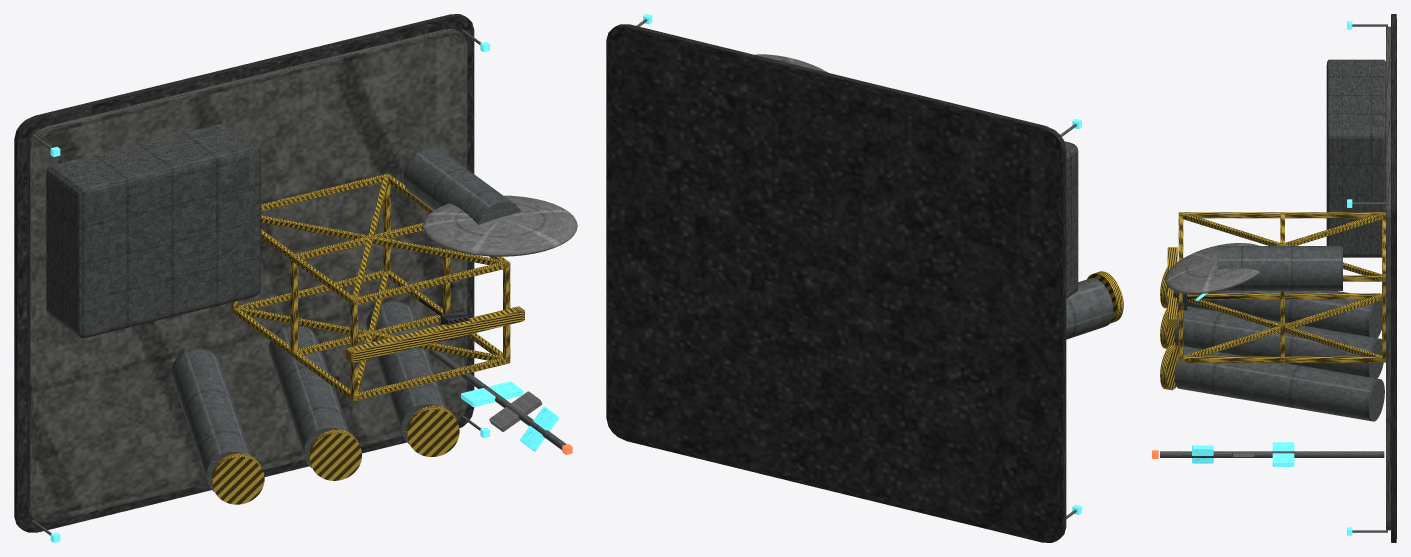
Rendered from b-38-orbital-defense-lod0.glb.
The picture shows the model from 3 angles, left to right: view 1: azimuth 30°, elevation 25°; view 2: azimuth 150°, elevation 25°; view 3: azimuth 270°, elevation 25°; orthographic projection. The views are drawn at different scales.
Parts seen in each view (by area): view 1: foundation_inner_pad, bunker_main, foundation, orbital_tracking_dish_dish, missile_01_tube, missile_02_tube, radar_pedestal, missile_03_tube, reload_crane_bridge, missile_02_cap, missile_01_cap, missile_03_cap (+18 smaller); view 2: foundation, missile_01_tube, bunker_main, missile_01_cap; view 3: bunker_main, missile_03_tube, missile_02_tube, radar_pedestal, missile_01_tube, foundation, orbital_tracking_dish_dish, foundation_inner_pad, reload_crane_column_e_s, reload_crane_brace_a_-1.5, reload_crane_brace_b_-1.5, optical_tracker_main (+12 smaller).
Part boxes in pixels (x1,y1,x2,y2): foundation_inner_pad: (27, 29, 467, 522); bunker_main: (46, 124, 260, 337); foundation: (14, 14, 474, 532); orbital_tracking_dish_dish: (423, 195, 577, 256); missile_01_tube: (171, 348, 251, 491); missile_02_tube: (268, 325, 349, 467); radar_pedestal: (403, 147, 521, 224); missile_03_tube: (366, 301, 446, 444); reload_crane_bridge: (346, 306, 524, 362); missile_02_cap: (308, 429, 361, 480); missile_01_cap: (211, 453, 264, 504); missile_03_cap: (406, 405, 459, 456); foundation: (606, 24, 1066, 542); missile_01_tube: (1066, 278, 1113, 339); bunker_main: (1064, 141, 1078, 298); missile_01_cap: (1087, 271, 1123, 323); bunker_main: (1326, 59, 1385, 257); missile_03_tube: (1174, 346, 1384, 421); missile_02_tube: (1174, 306, 1383, 378); radar_pedestal: (1217, 246, 1342, 290); missile_01_tube: (1187, 291, 1381, 338); foundation: (1391, 14, 1396, 542); orbital_tracking_dish_dish: (1165, 243, 1259, 293); foundation_inner_pad: (1386, 26, 1390, 530); reload_crane_column_e_s: (1183, 356, 1382, 362); reload_crane_brace_a_-1.5: (1183, 295, 1381, 356); reload_crane_brace_b_-1.5: (1187, 295, 1381, 356); optical_tracker_main: (1160, 451, 1384, 457).
Size of what is drawn, in the model's own units: 15 by 13 by 8.19.
Materials: 10 (10 with a texture image).
